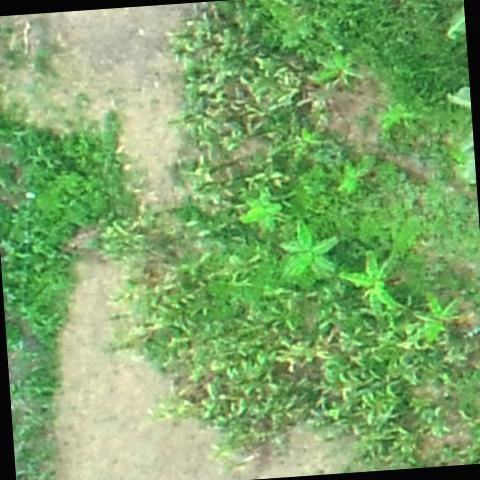Banana-plant: (276, 222, 358, 290), (343, 246, 412, 326), (398, 288, 474, 352), (306, 36, 368, 100), (230, 189, 297, 242), (240, 140, 292, 206), (329, 146, 383, 206), (368, 103, 420, 139)
